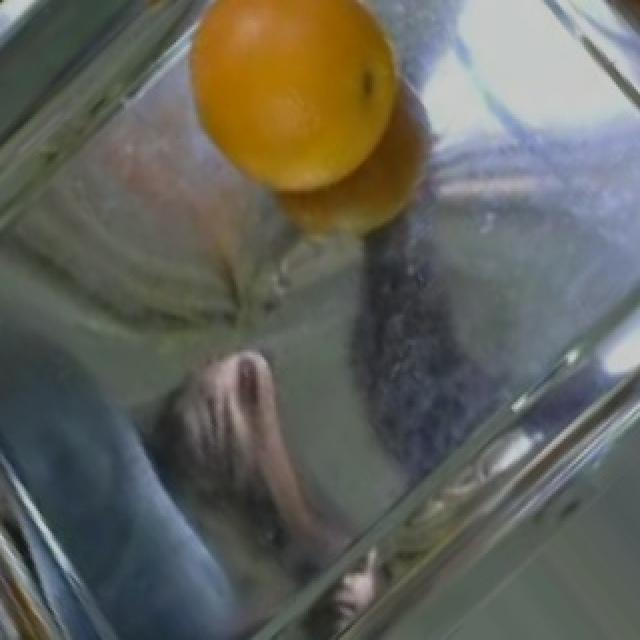Fruit: (162, 0, 424, 256)
